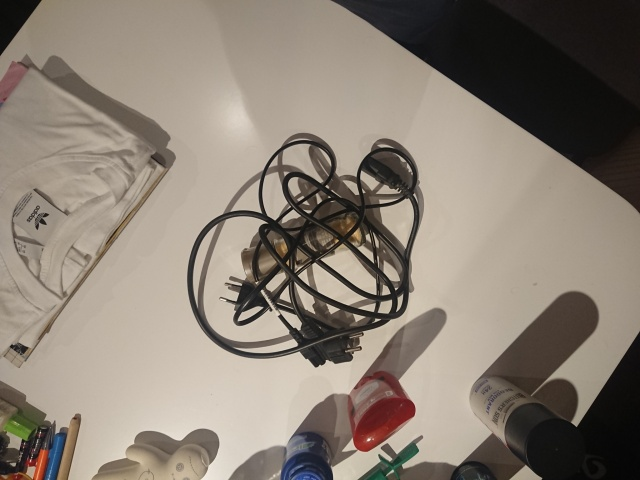Kotanyi Garlic Granules 70g: (239, 209, 369, 285)
